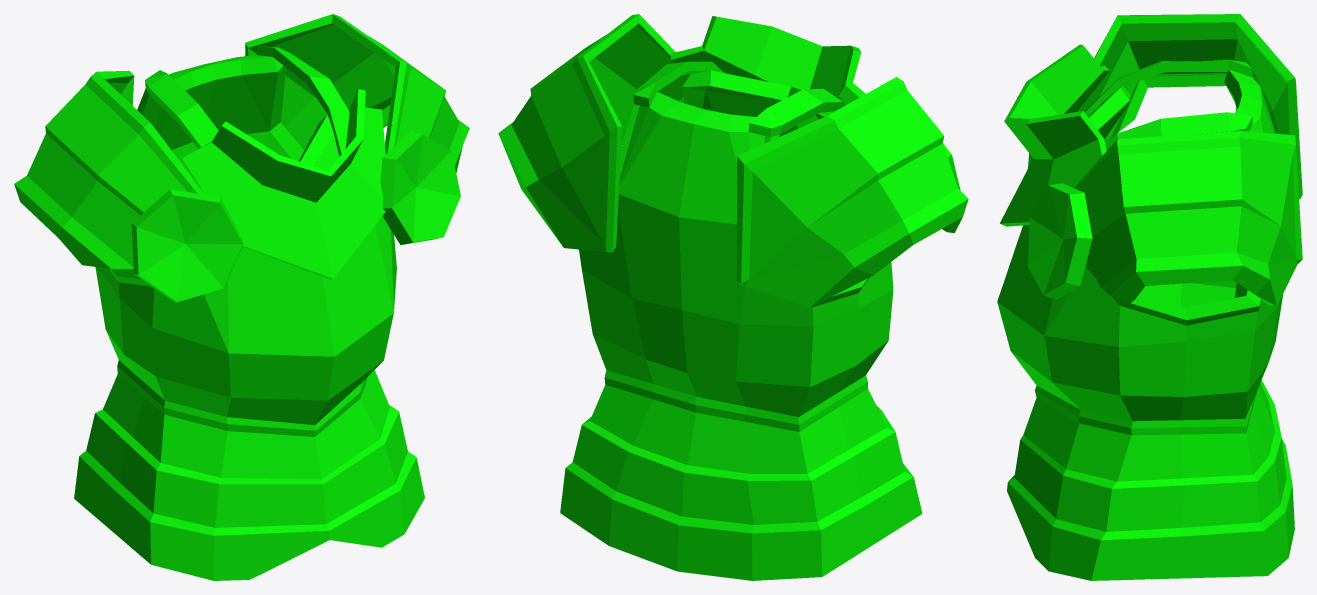
Rendered from SM_Armor_Torso_C_Hanging_Fantasy.fbx.
The picture shows the model from 3 angles, left to right: view 1: azimuth 30°, elevation 25°; view 2: azimuth 150°, elevation 25°; view 3: azimuth 270°, elevation 25°; orthographic projection. The views are drawn at different scales.
Visible parts, largest first — view 1: armor-torso-c-hanging-fantasy; view 2: armor-torso-c-hanging-fantasy; view 3: armor-torso-c-hanging-fantasy.
Part boxes in pixels (left/top/right/bottom): armor-torso-c-hanging-fantasy: left=14, top=14, right=469, bottom=580; armor-torso-c-hanging-fantasy: left=498, top=14, right=968, bottom=580; armor-torso-c-hanging-fantasy: left=997, top=14, right=1302, bottom=580.
Size of the model in its own units: 0.6008 by 0.6377 by 0.3848.
